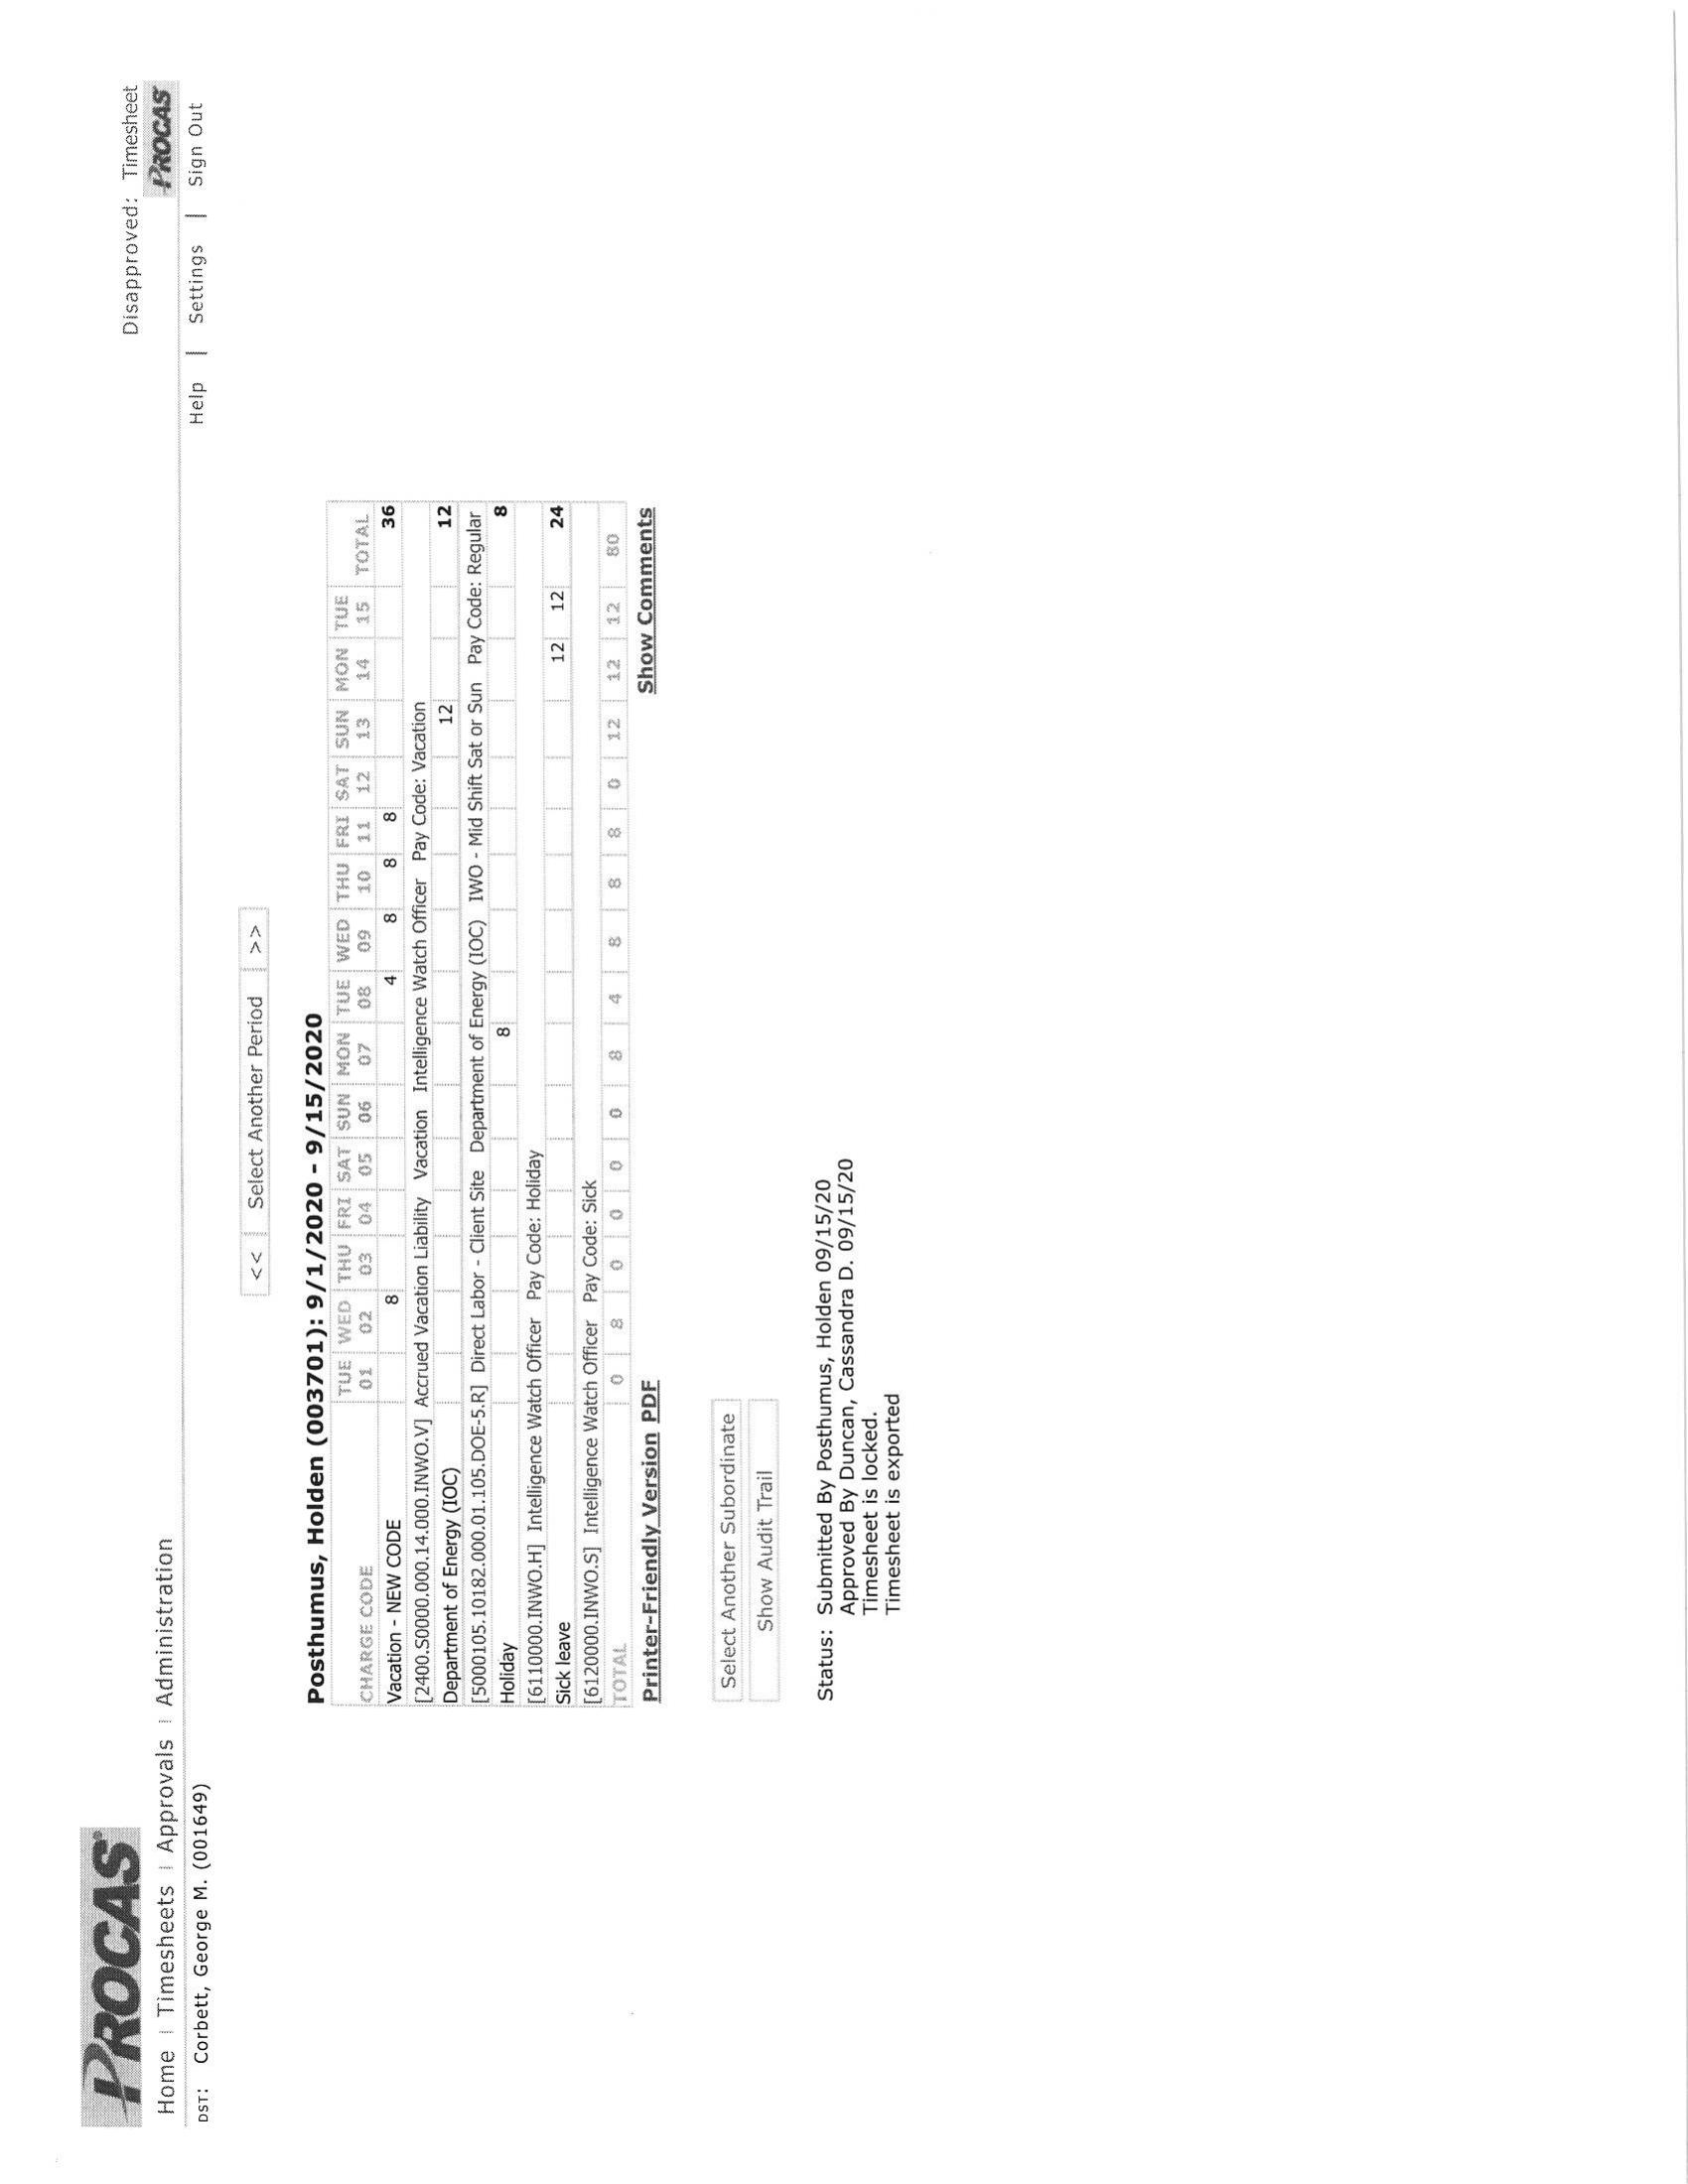table: (312, 486, 638, 1714)
